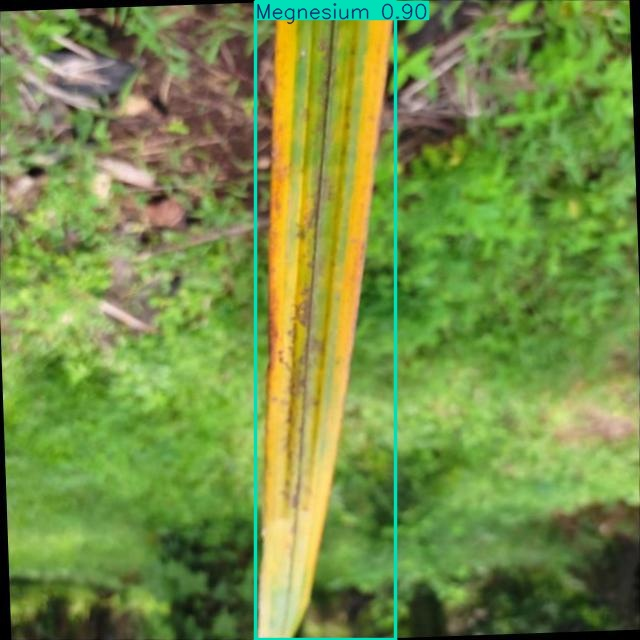Megnesium: (256, 2, 395, 639)
